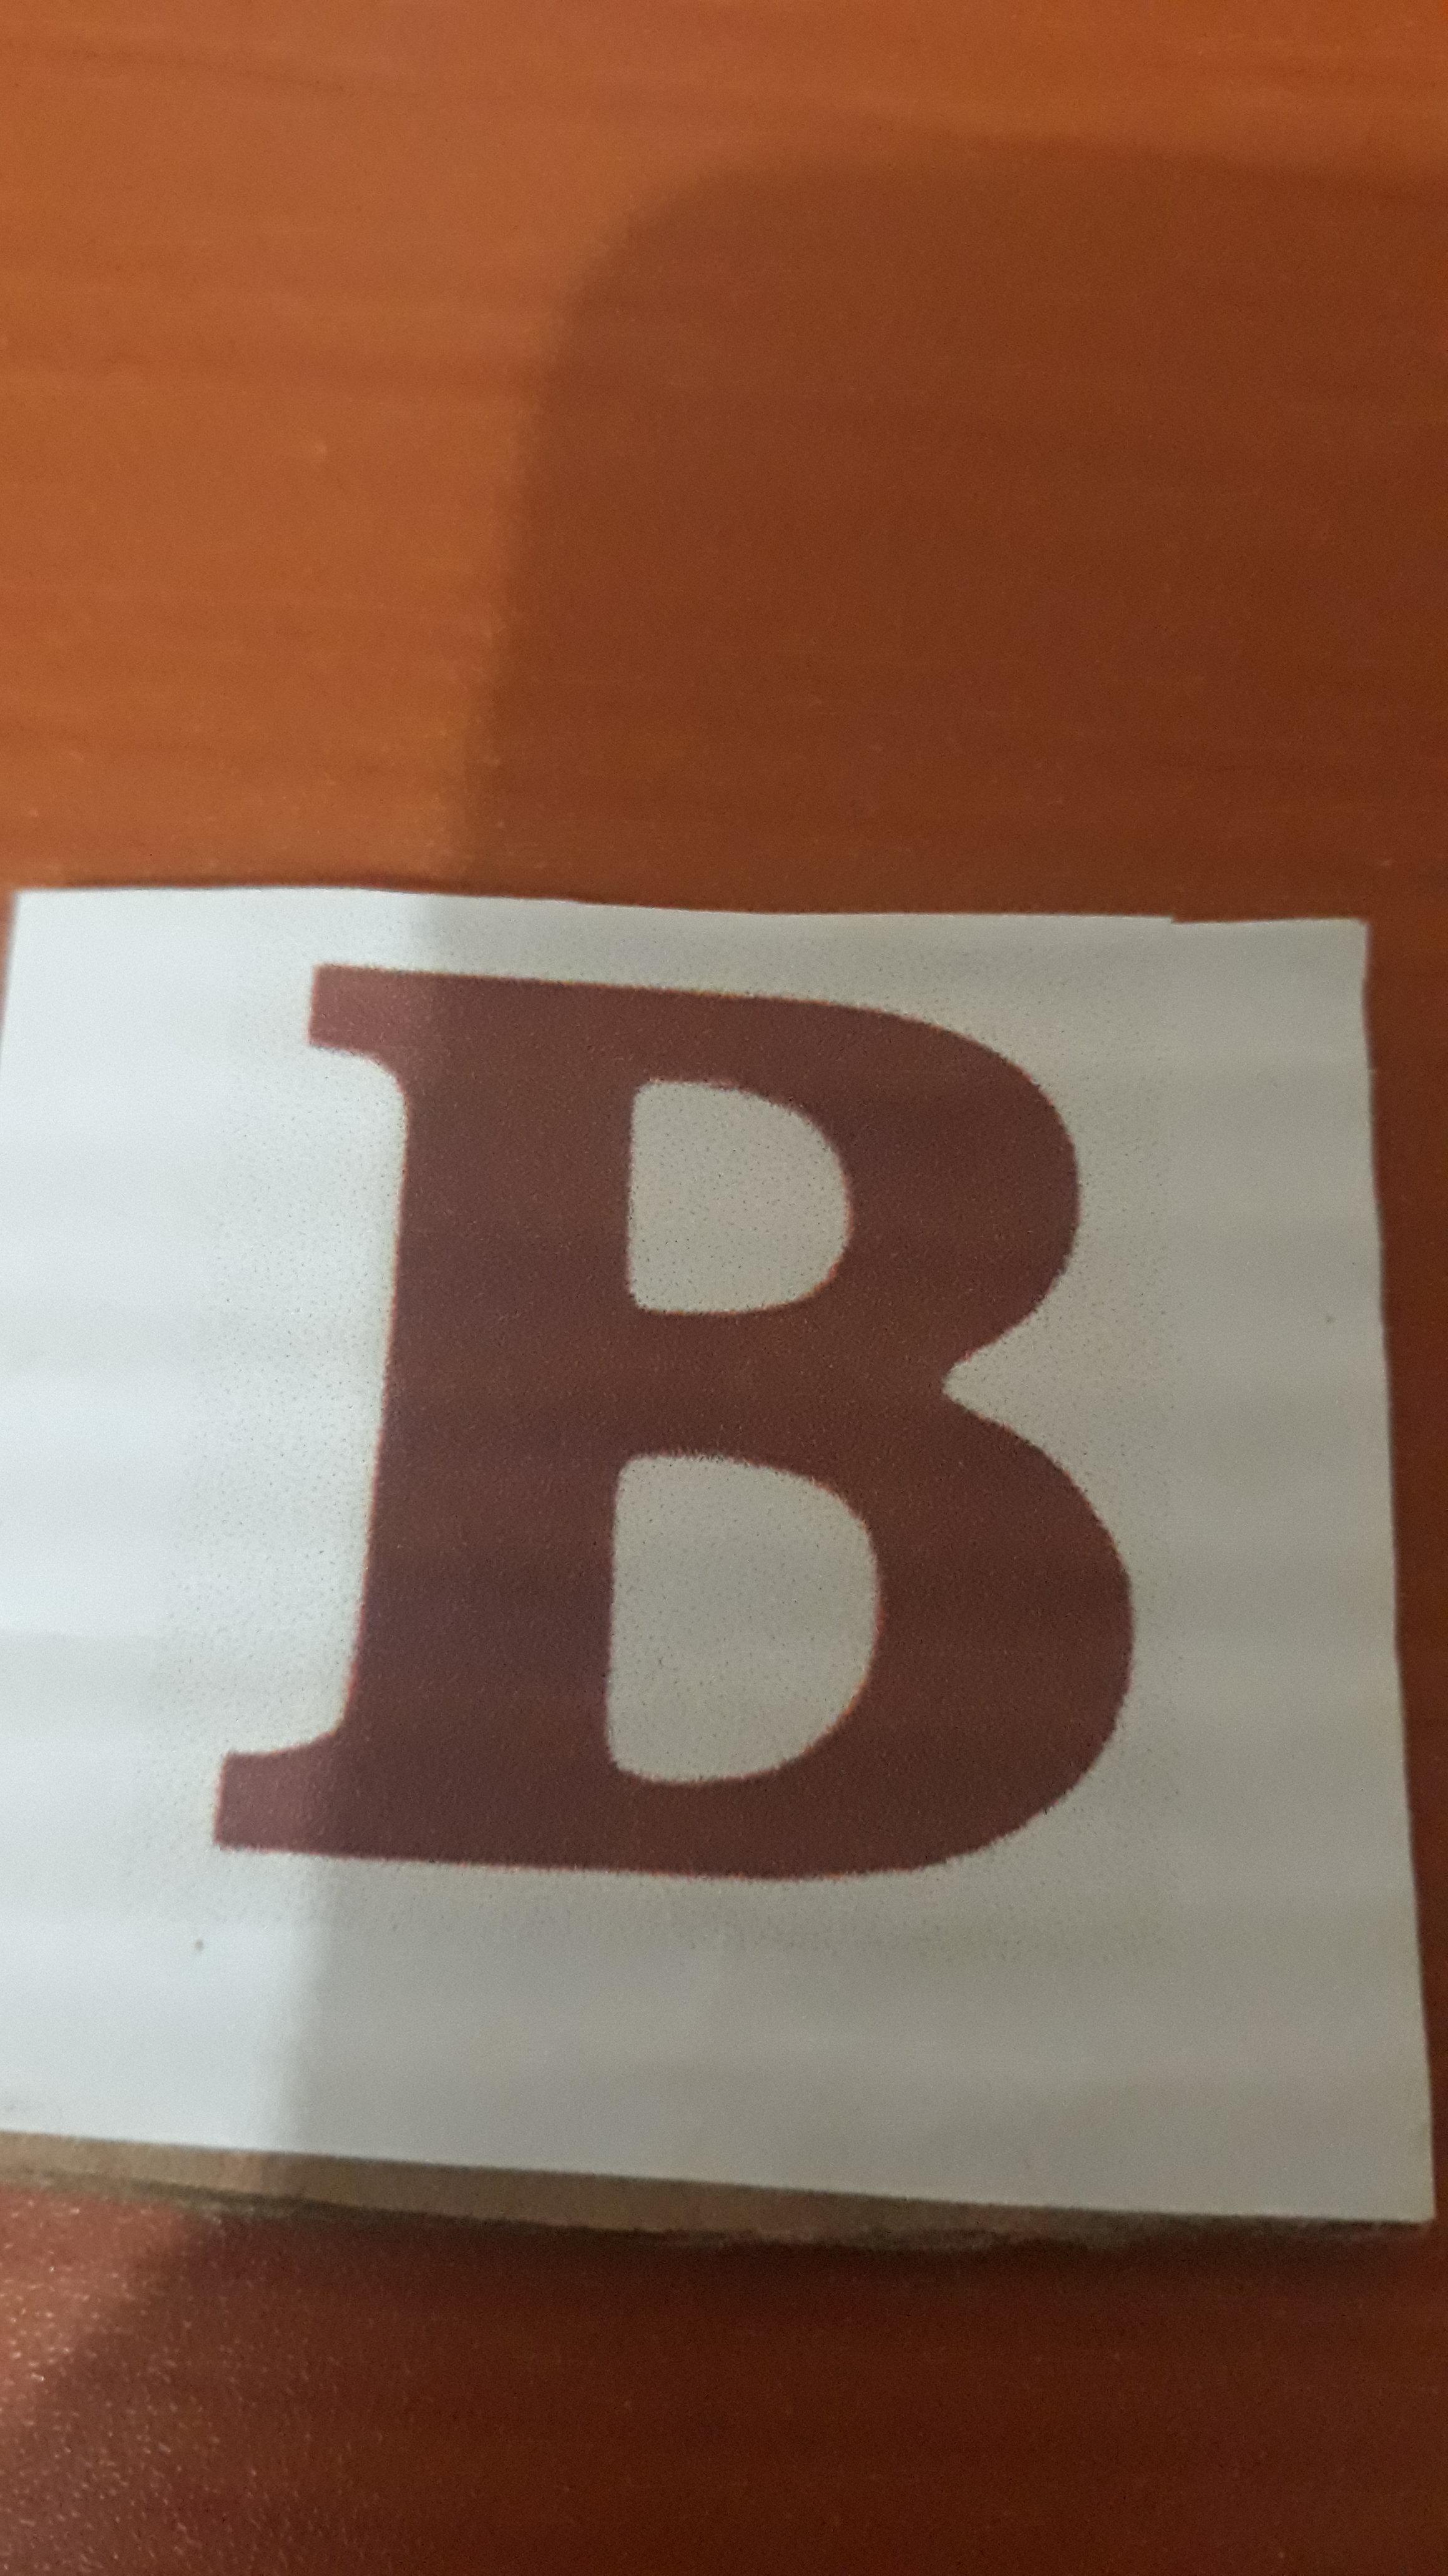zone B: (218, 913, 1313, 2052)
